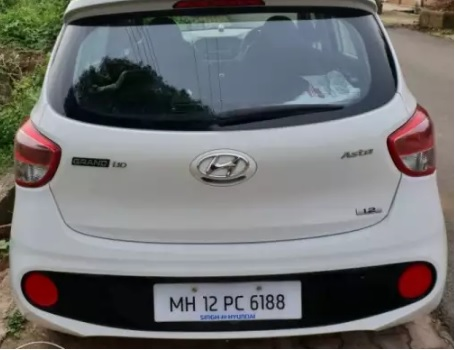licenseplate: (150, 278, 307, 325)
